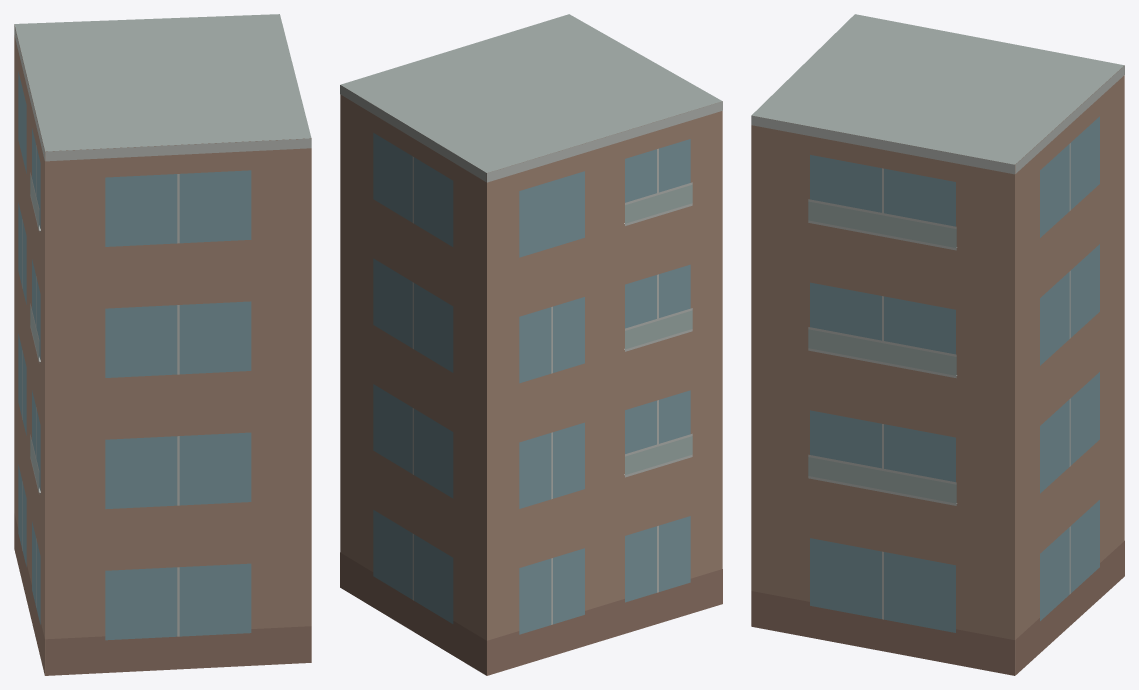
The model's file is survey-upis-32938402.glb.
The picture shows the model from 3 angles, left to right: view 1: azimuth 30°, elevation 25°; view 2: azimuth 150°, elevation 25°; view 3: azimuth 270°, elevation 25°; orthographic projection. The views are drawn at different scales.
Visible parts, largest first — view 1: survey-upis-32938402.tmp; view 2: survey-upis-32938402.tmp; view 3: survey-upis-32938402.tmp.
Part boxes in pixels (x1,y1,x2,y2): survey-upis-32938402.tmp: [14, 14, 311, 675]; survey-upis-32938402.tmp: [340, 14, 722, 675]; survey-upis-32938402.tmp: [751, 14, 1124, 675].
Bounding box in the file's own units: 8.17 × 12.9 × 8.55.
